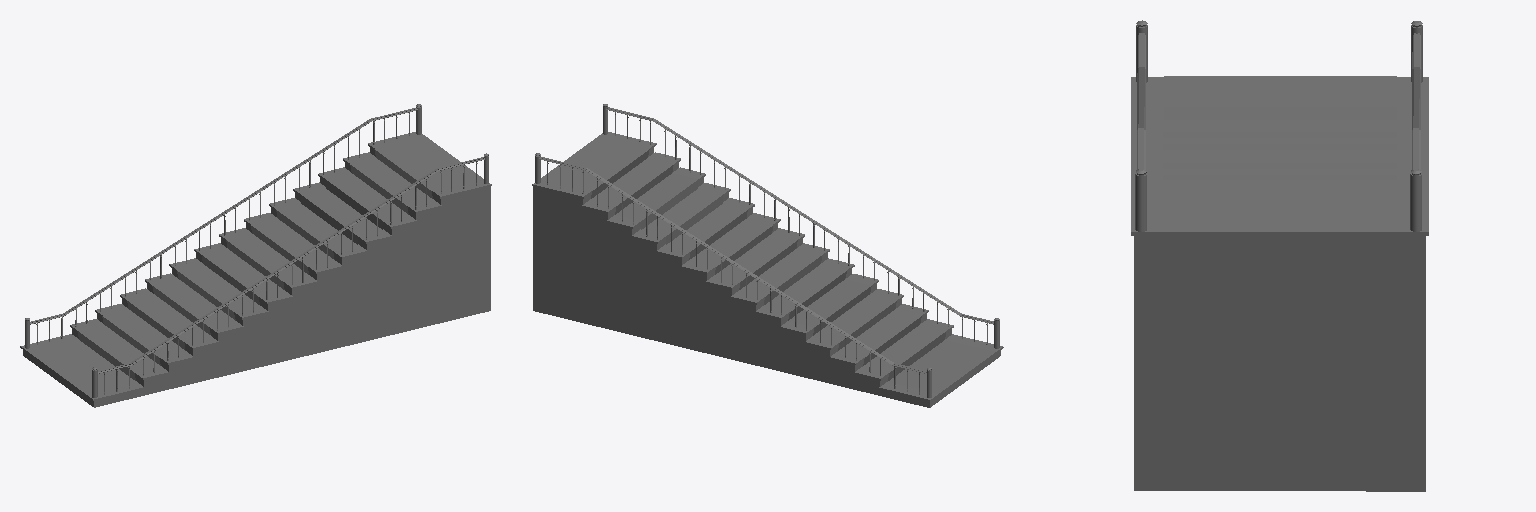
The robot description file, URDF, robot "stairs_terrain":
<?xml version="1.0" ?>
<robot name="stairs_terrain">
  <link name="stairs_terrain">
	  <contact>
      <lateral_friction value="1.0"/>
    </contact>
    <inertial>
      <origin rpy="0 0 0" xyz="0 0 0"/>
       <mass value=".0"/>
       <inertia ixx="0" ixy="0" ixz="0" iyy="0" iyz="0" izz="0"/>
    </inertial>
    <visual>
      <origin rpy="1.57 0 1.57" xyz="1. 0 0"/>
      <geometry>
				<mesh filename="meshes/stairs.obj" scale="0.1 0.07 0.1"/>
      </geometry>
       <material name="white">
        <color rgba="0.5 0.5 0.5 1.0"/>
      </material>
    </visual>
    <collision>
      <origin rpy="1.57 0 1.57" xyz="1. 0 0"/>
      <geometry>
				<mesh filename="meshes/stairs.obj" scale="0.1 0.07 0.1"/>
      </geometry>
    </collision>
  </link>
</robot>

--- What the picture shows (computed from the rendered views, not written in the file) ---
The picture shows the robot from 3 angles, left to right: view 1: azimuth 30°, elevation 25°; view 2: azimuth 150°, elevation 25°; view 3: azimuth 270°, elevation 25°; orthographic projection.
Robot: stairs_terrain — 1 links, 0 joints (none); root link stairs_terrain; default pose: every joint at zero.
Links seen in each view (by area): view 1: stairs_terrain; view 2: stairs_terrain; view 3: stairs_terrain.
Boxes of the visible links, x1,y1,x2,y2 form: stairs_terrain: [20, 104, 491, 407]; stairs_terrain: [532, 104, 1003, 407]; stairs_terrain: [1131, 20, 1428, 491].
Bounding box of the posed robot: 3.21 × 1.02 × 1.21 m (x, y, z).
1 mesh visuals loaded from 1 distinct referenced files (1 OBJ).